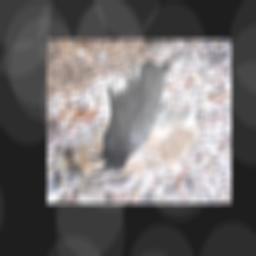Crow: (88, 52, 178, 176)
